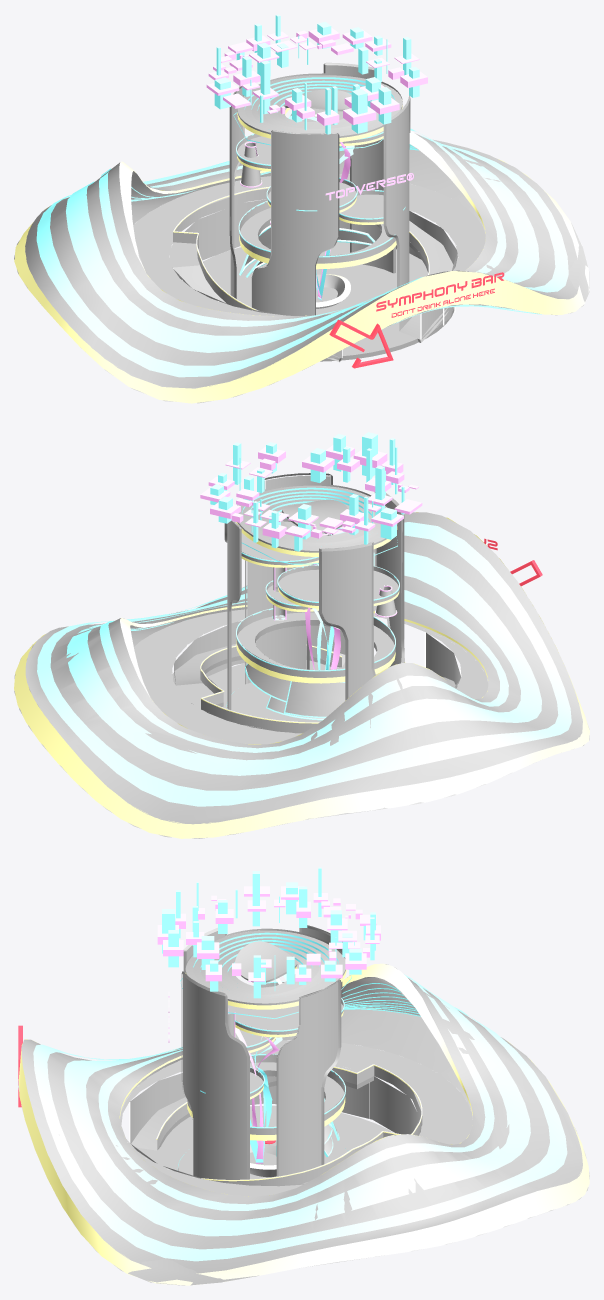
File: barsymphony.glb
3 renders of one model, top to bottom at view 1: azimuth 30°, elevation 25°; view 2: azimuth 150°, elevation 25°; view 3: azimuth 270°, elevation 25°, orthographic. The views are drawn at different scales.
Visible parts, largest first — view 1: A_Shell.001, Glass, A_Facade.001, A_Light.002, slab_Default, Light Disk, Light Column, A_Glass, GlassFrame, A_Slop, A_SlopGlass, slab_Light (+7 smaller); view 2: A_Shell.001, A_Facade.001, Glass, A_Light.002, slab_Default, Light Disk, Light Column, GlassFrame, A_Glass, Screens, Static Light, A_SlopGlass (+3 smaller); view 3: A_Shell.001, A_Facade.001, Glass, A_Light.002, slab_Default, Light Disk, Light Column, A_Glass, GlassFrame, A_SlopGlass, Static Light, A_Slop (+5 smaller).
Boxes of the visible parts, x1,y1,x2,y2 form: A_Shell.001: (14, 133, 589, 403); Glass: (230, 65, 409, 315); A_Facade.001: (36, 128, 568, 377); A_Light.002: (14, 130, 589, 403); slab_Default: (237, 75, 402, 308); Light Disk: (206, 27, 427, 125); Light Column: (214, 14, 419, 134); A_Glass: (173, 199, 457, 358); GlassFrame: (229, 62, 410, 315); A_Slop: (170, 221, 453, 361); A_SlopGlass: (173, 189, 428, 330); slab_Light: (237, 84, 402, 307); A_Shell.001: (14, 512, 589, 838); A_Facade.001: (37, 522, 571, 806); Glass: (227, 475, 404, 709); A_Light.002: (14, 512, 589, 838); slab_Default: (237, 485, 399, 677); Light Disk: (200, 445, 422, 538); Light Column: (210, 432, 404, 551); GlassFrame: (224, 473, 404, 710); A_Glass: (174, 621, 460, 732); Screens: (245, 664, 345, 718); Static Light: (226, 487, 399, 706); A_SlopGlass: (200, 646, 341, 733); A_Shell.001: (18, 964, 589, 1285); A_Facade.001: (33, 974, 567, 1261); Glass: (182, 925, 345, 1181); A_Light.002: (18, 963, 589, 1285); slab_Default: (185, 930, 345, 1177); Light Disk: (157, 886, 380, 981); Light Column: (162, 867, 375, 998); A_Glass: (130, 1073, 421, 1186); GlassFrame: (181, 925, 341, 1179); A_SlopGlass: (157, 1065, 422, 1185); Static Light: (177, 932, 351, 1168); A_Slop: (131, 1065, 373, 1183).
Size of what is drawn, in the model's own units: 61.39 by 30.98 by 58.64.
